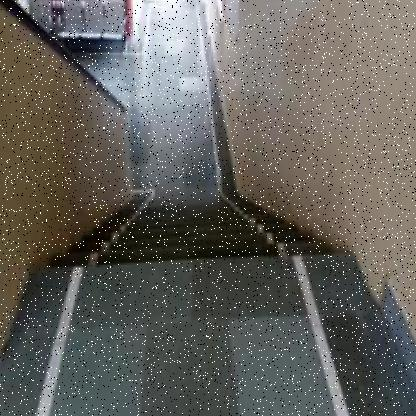stair_down: (34, 196, 336, 283)
